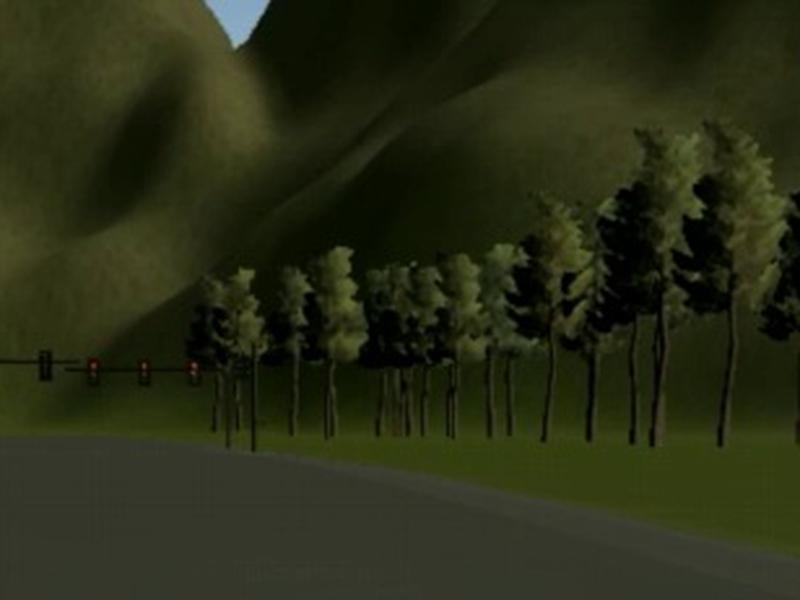Red: (188, 356, 204, 386), (86, 356, 100, 387), (136, 357, 150, 386)
